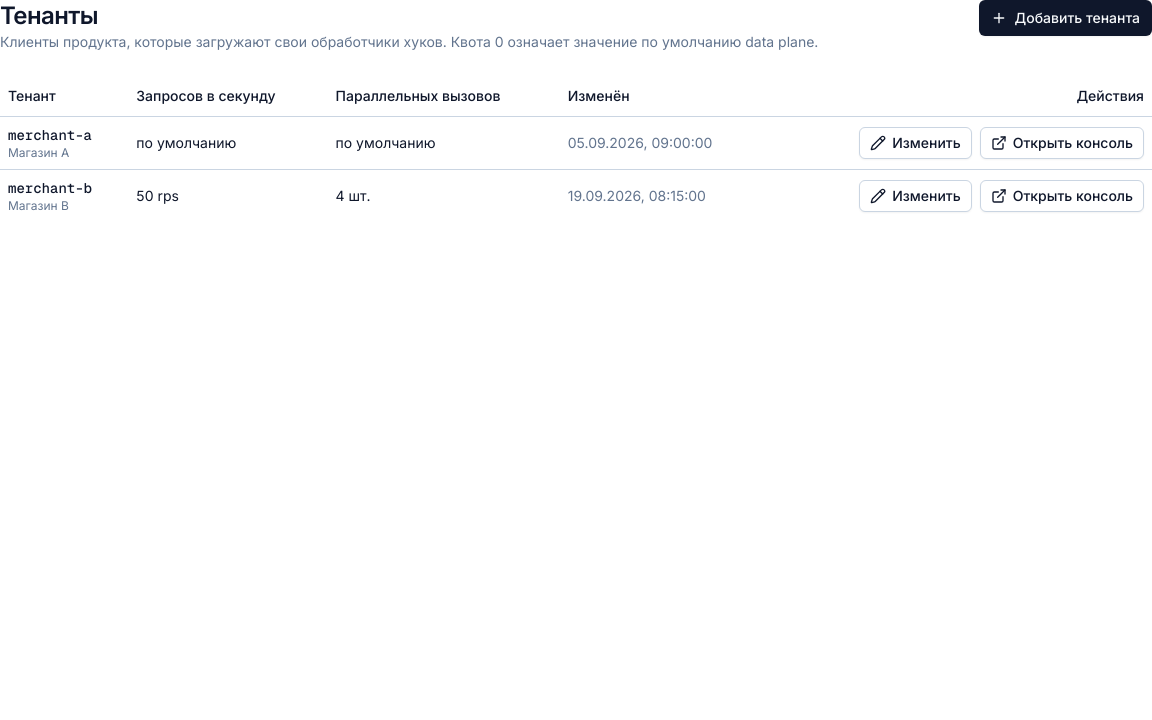
Test: OperatorTenantsPage › checks the form before sending
Step 1. Click the button "Добавить тенанта" → (1065, 18), box [978,0,1151,36]
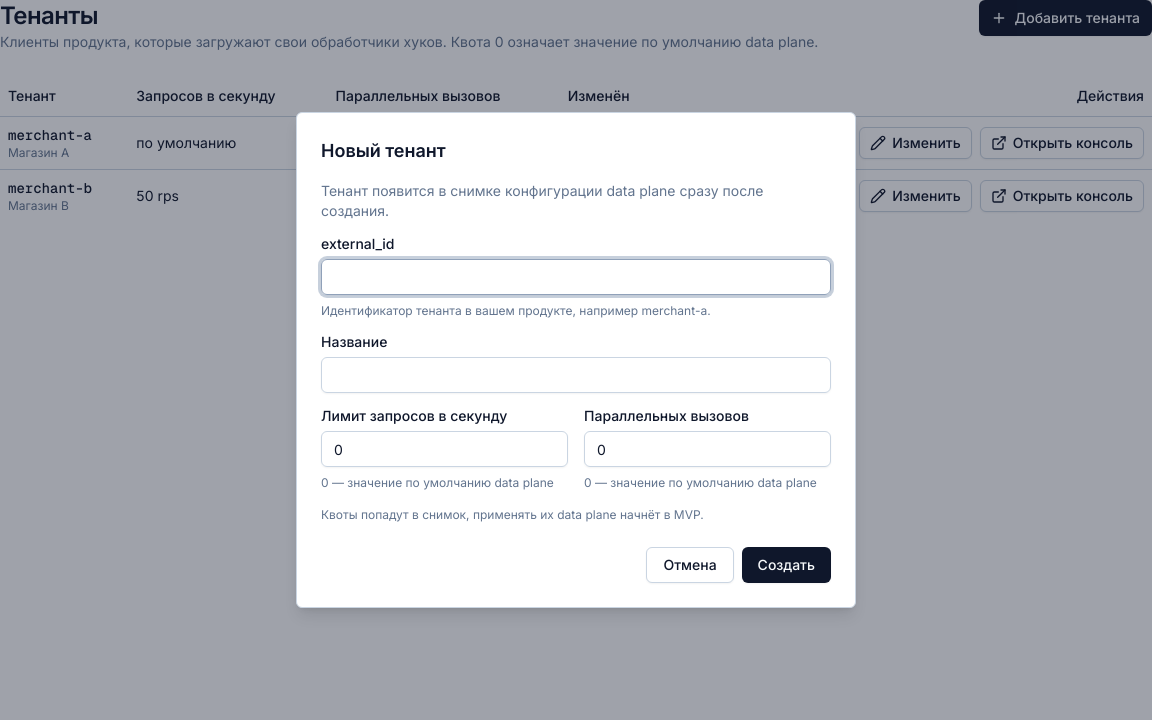
Step 2. Replace the text in the number field labelled "Лимит запросов в секунду" with "-1" → (444, 449), box [321,431,568,467]
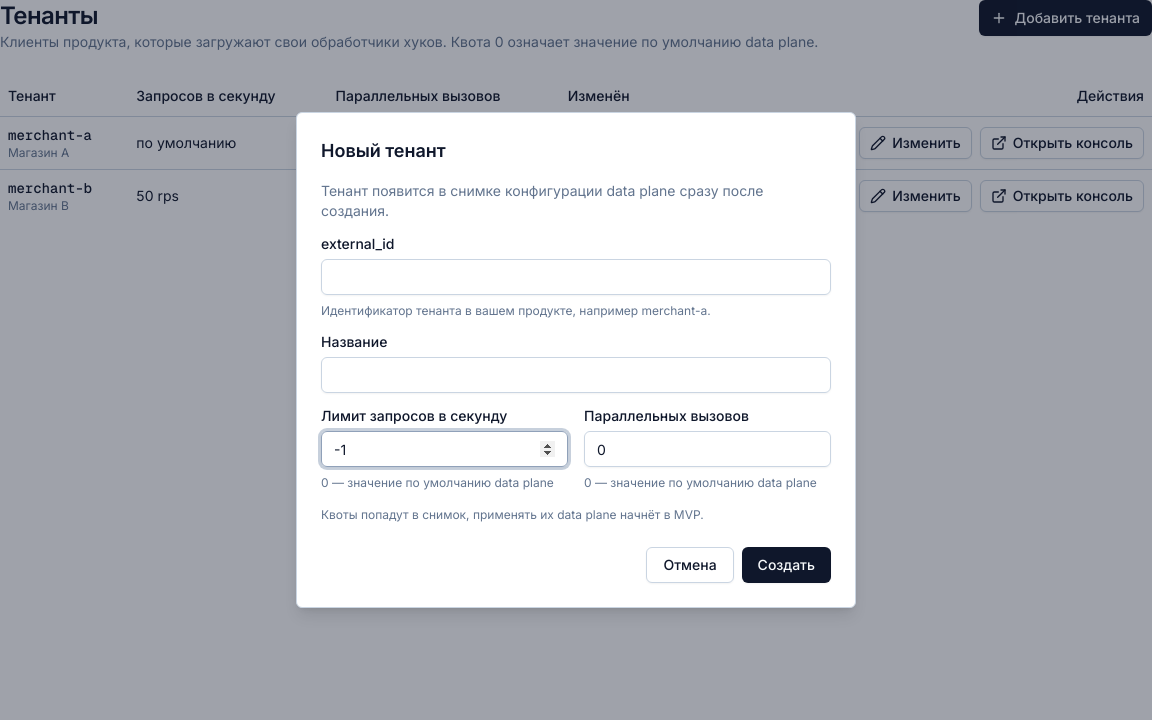
Step 3. Click the button "Создать" → (786, 565), box [742,547,831,583]
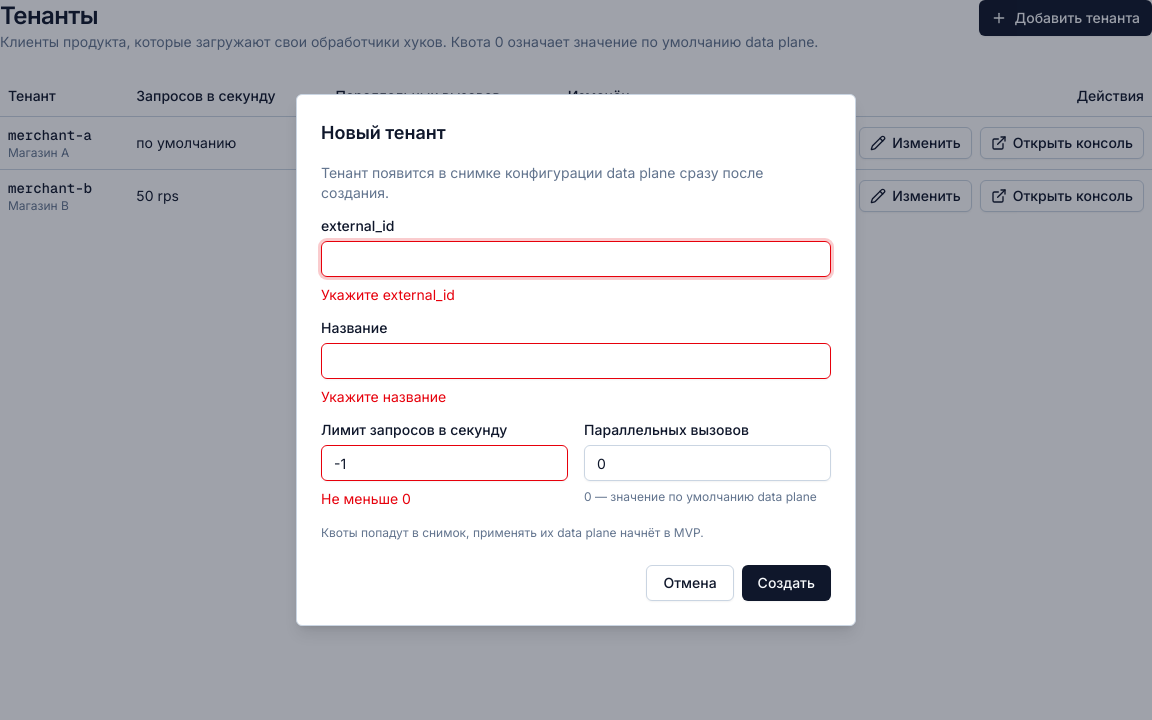
Now the text "Укажите external_id" is shown, box [321,286,455,303]
Now the text "Укажите название" is shown, box [321,388,446,405]
Now the text "Не меньше 0" is shown, box [321,490,411,507]
